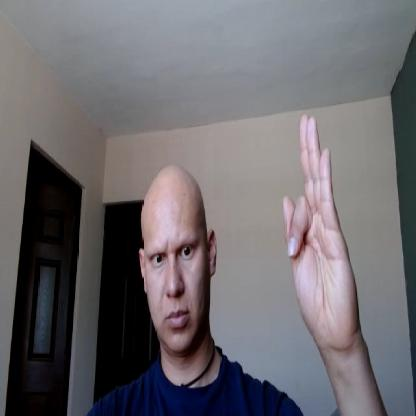F: (281, 110, 359, 345)
